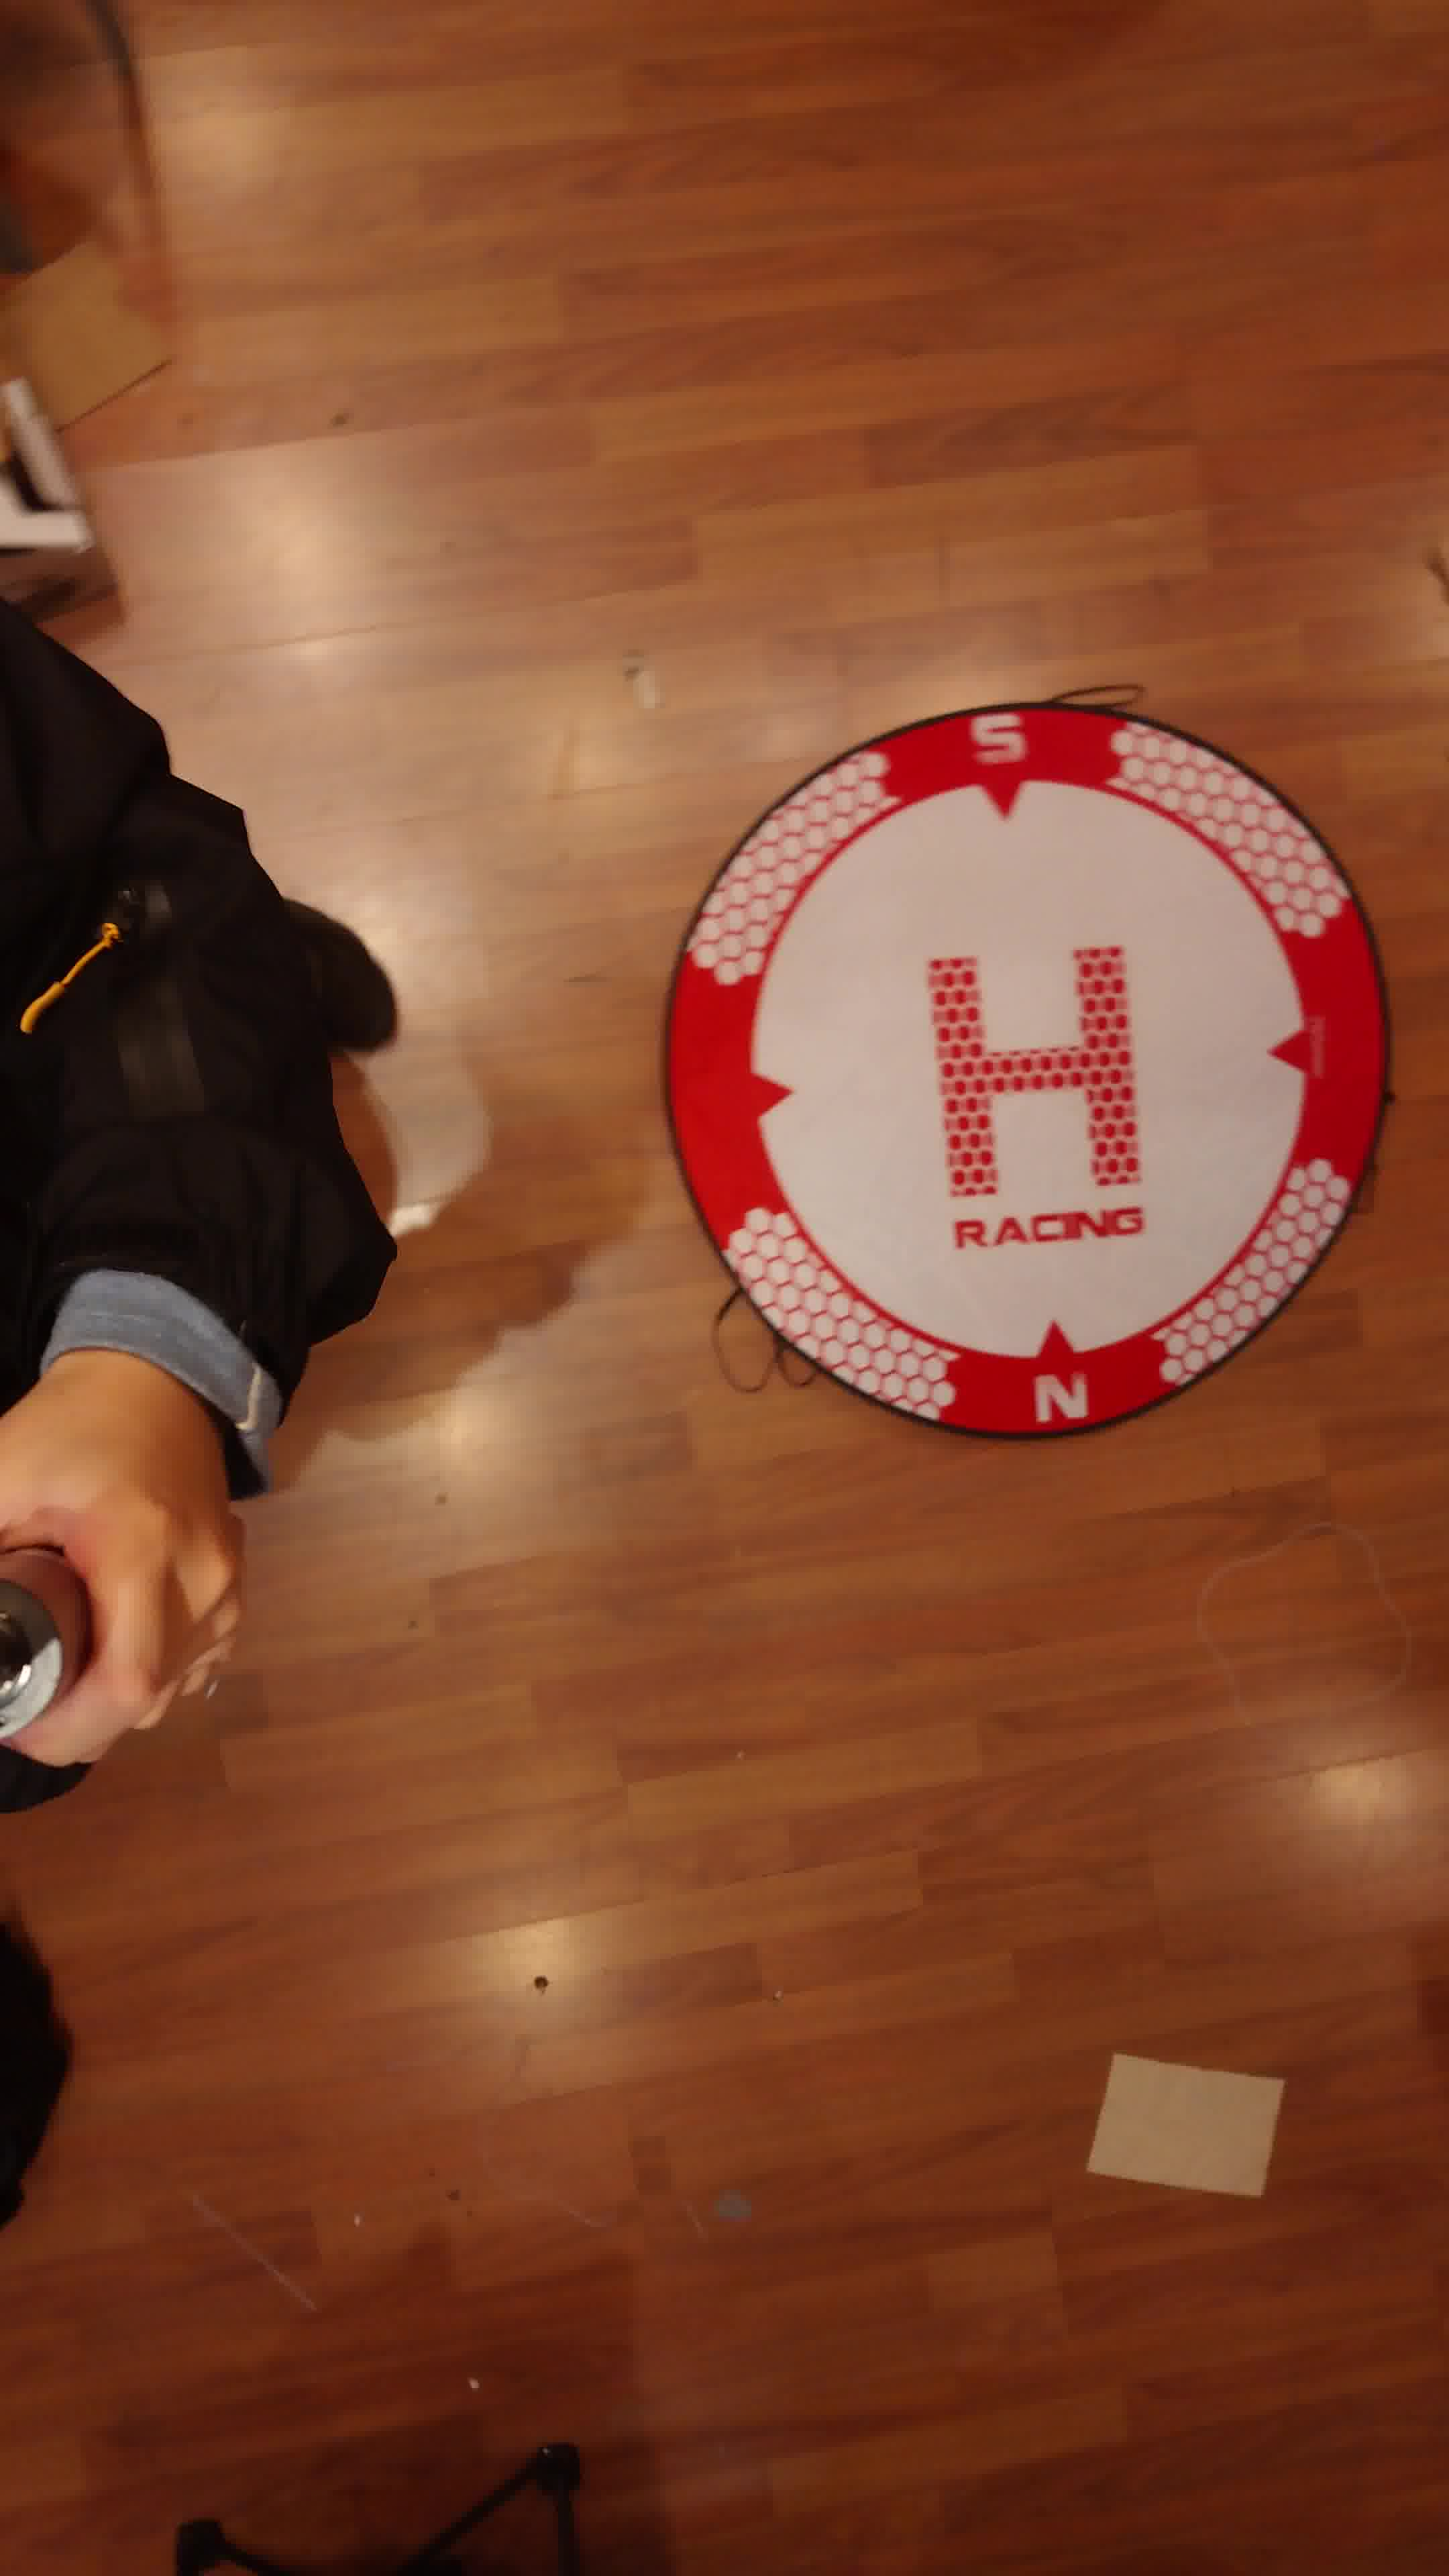H: (924, 947, 1143, 1198)
